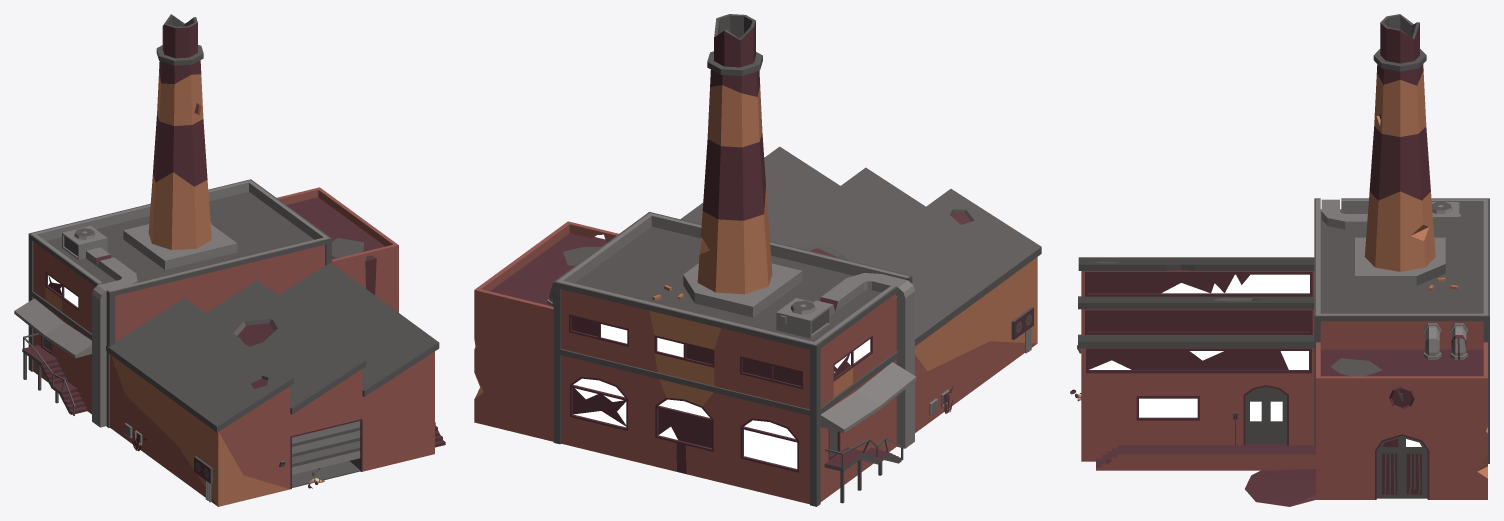
The model's file is apocalypse-industry-factory-old-apocalypse.glb.
3 views of the same model, side by side, from view 1: azimuth 30°, elevation 25°; view 2: azimuth 150°, elevation 25°; view 3: azimuth 270°, elevation 25° (orthographic). The views are drawn at different scales.
Parts seen in each view (by area): view 1: industry-factory-old-base-apocalypse; view 2: industry-factory-old-base-apocalypse; view 3: industry-factory-old-base-apocalypse.
Part boxes in pixels (bbox=[...]): industry-factory-old-base-apocalypse: bbox=[14, 14, 445, 506]; industry-factory-old-base-apocalypse: bbox=[474, 14, 1041, 506]; industry-factory-old-base-apocalypse: bbox=[1077, 14, 1489, 506].
Size of the model in its own units: 22.34 by 23.31 by 23.2.
